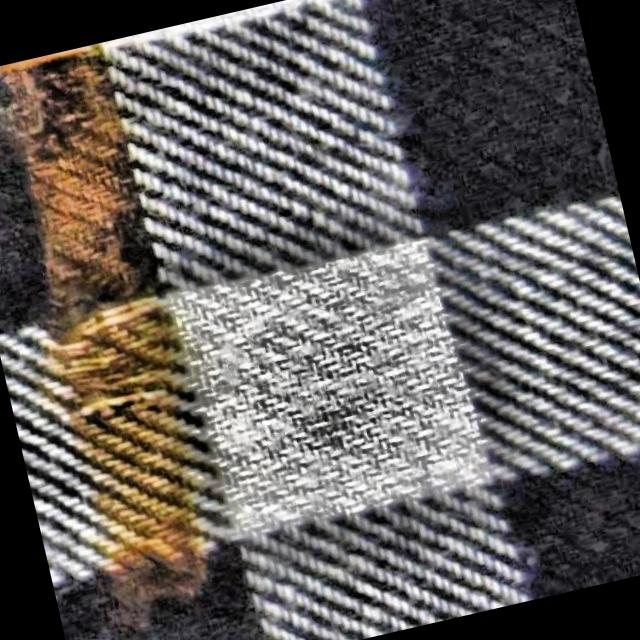stain: (0, 44, 214, 598)
